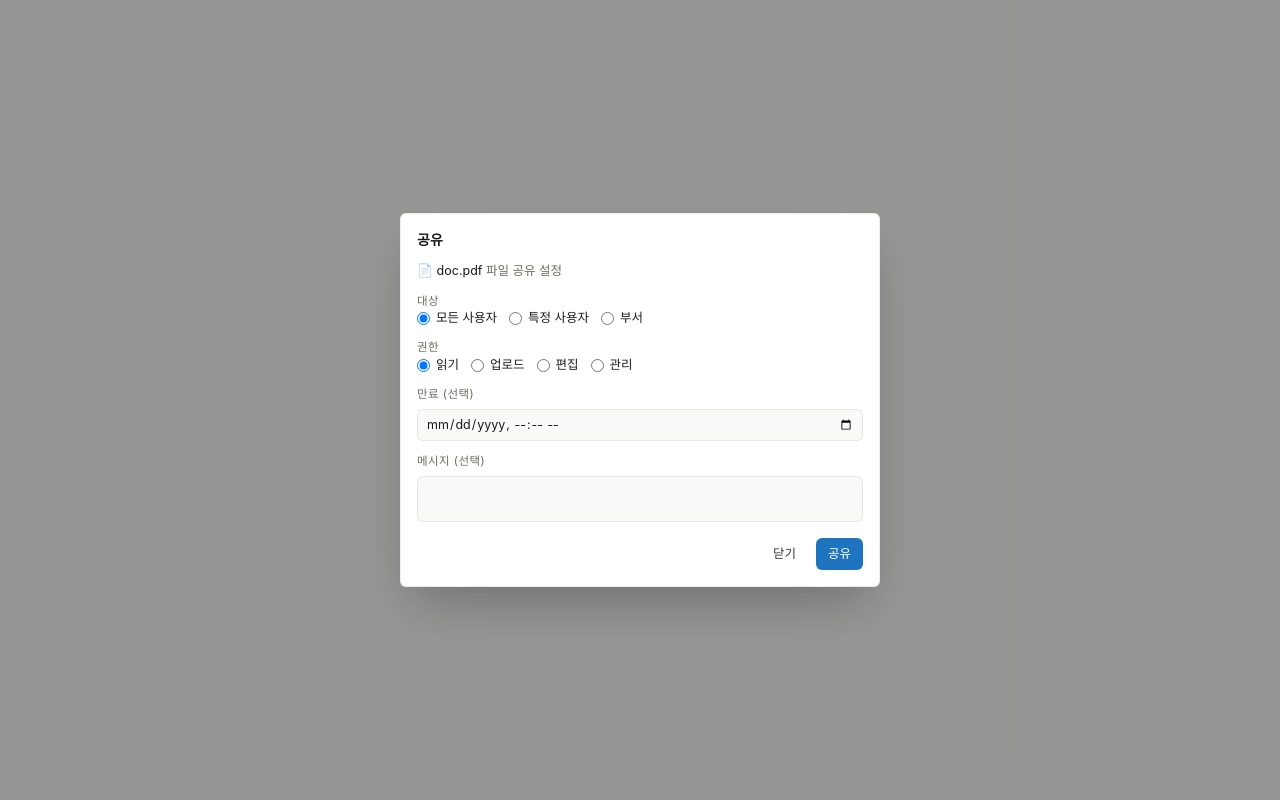
Scenario: ShareDialog (F5.1 wire-aligned) › A16.7: department 라디오 클릭 → DepartmentSearchCombobox 노출
Click the radio button labelled "부서": (608, 318) [601,312,614,325]
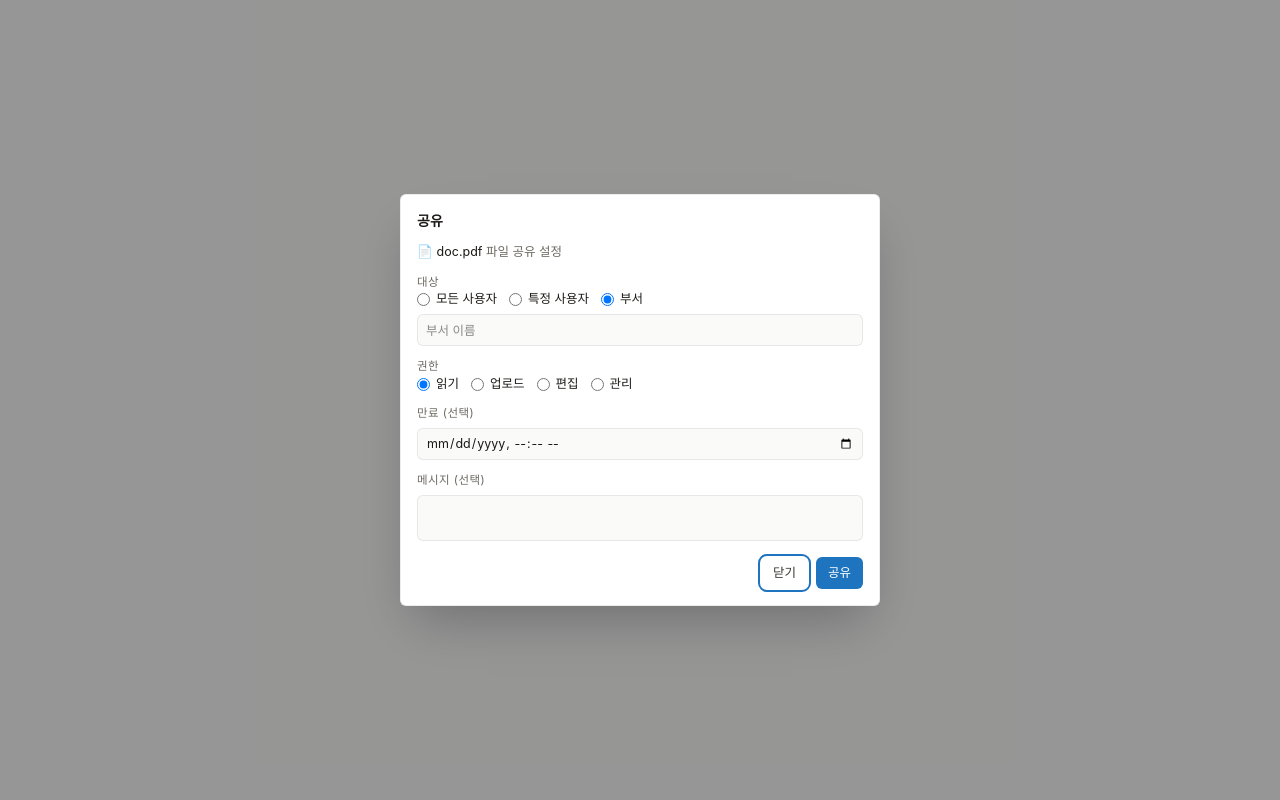
Expected: the dropdown is shown, [417,314,863,346]
